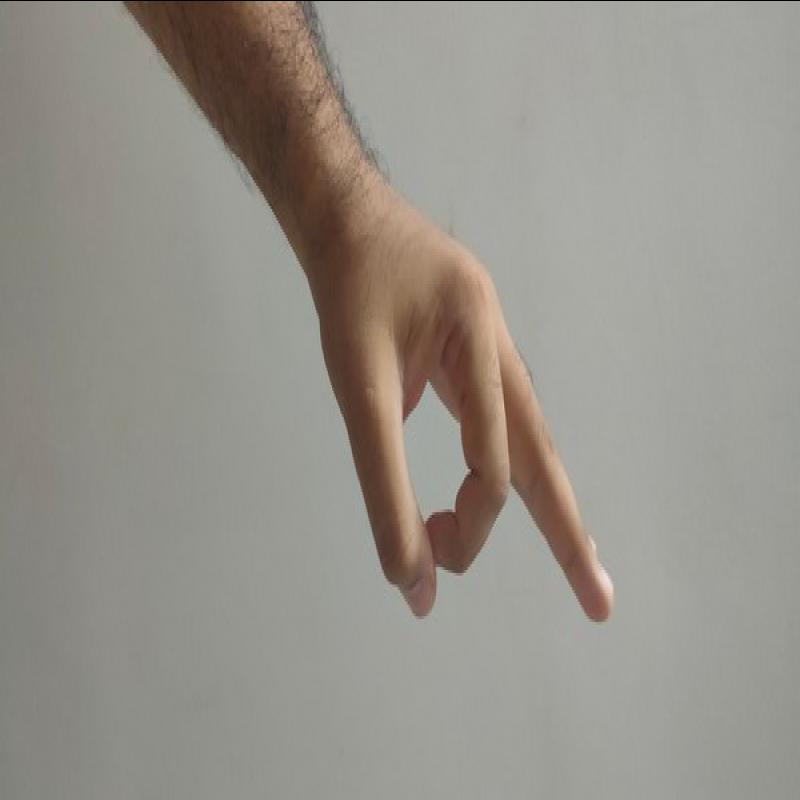Mudraakhyam: (304, 231, 626, 640)
